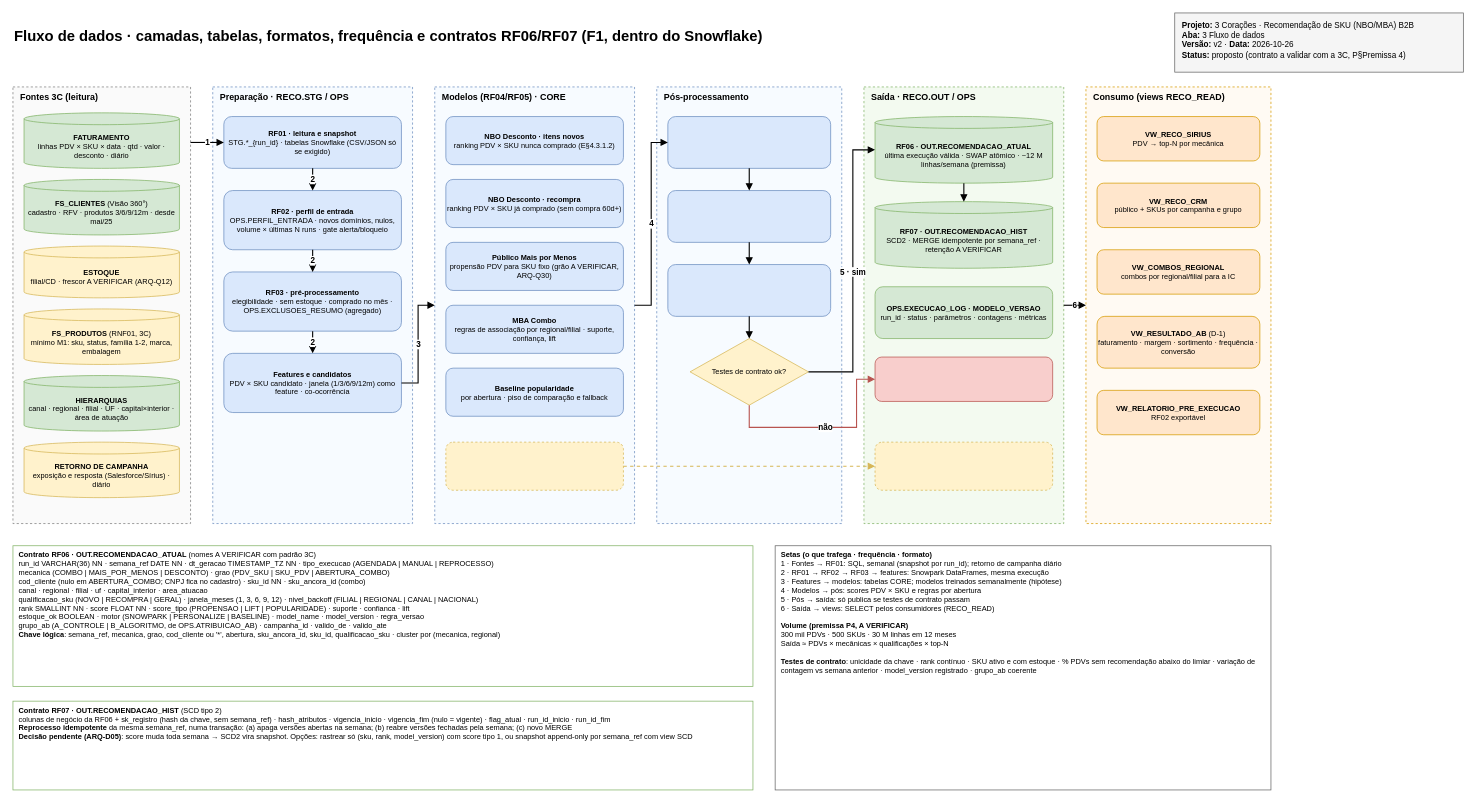
Image size: 1476x803. Some labels were removed from this diagram. The centre of each missing label's shape, as x and y in pixels:
"[F1b] Personalize / [C-BR] SageMaker desafiante offline · só benchmark" goes at pixel 534 465.
"Backoff por abertura filial → regional → canal → nacional · nivel_backoff" goes at pixel 749 142.
"Falha : não publica · RF06 mantém a última versão válida · alerta" goes at pixel 963 378.
"Join OPS.ATRIBUICAO_AB grupo_ab fixo por campanha (não por run)" goes at pixel 749 290.
"OPS.BENCHMARK_RESULTADO métricas offline campeão × desafiante" goes at pixel 963 465.
"Regras de mecânica top-N · estoque_ok · janela vencedora · regra_versao" goes at pixel 749 216.
